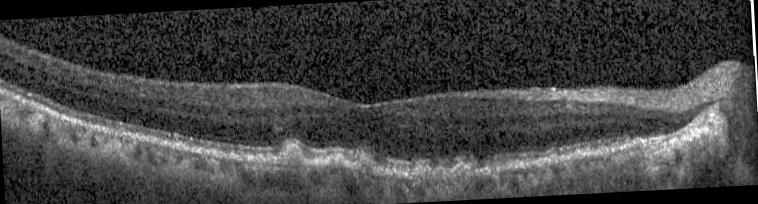retinal_drusen: (432, 160, 492, 179), (281, 141, 304, 165), (353, 159, 370, 174), (325, 156, 336, 169), (336, 155, 346, 169)
